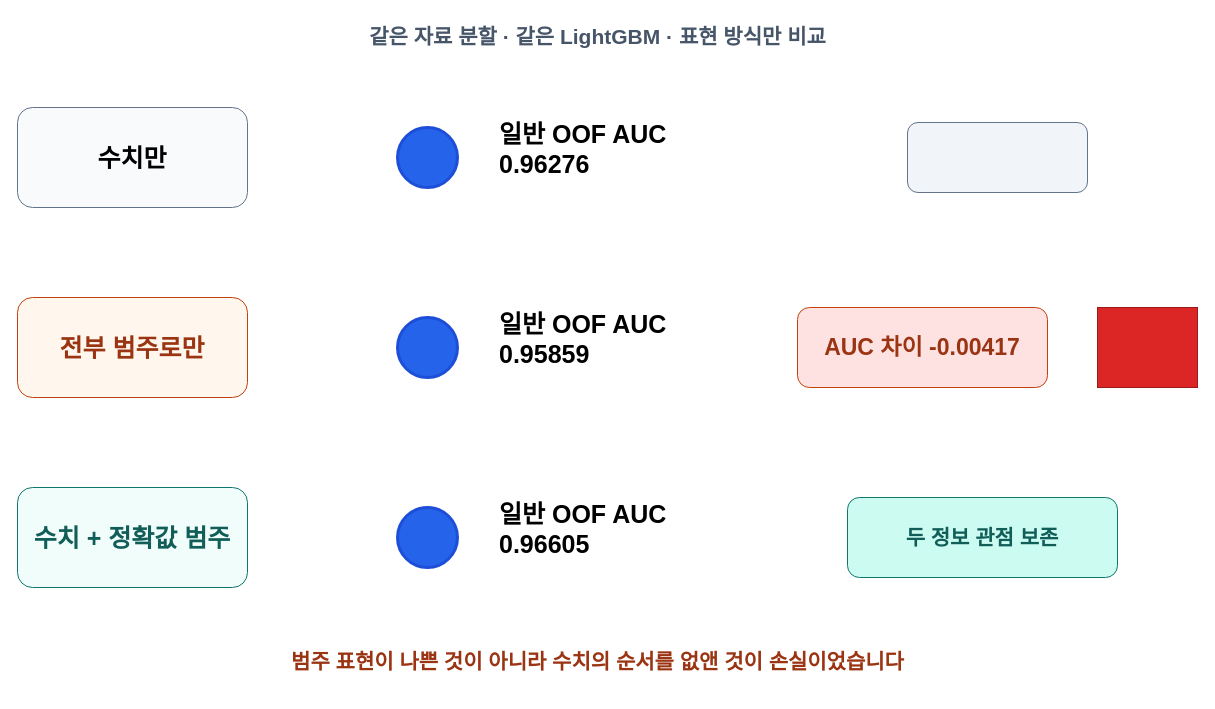
Some shapes in this 1215 by 709 pixel diagram are drawn without their labels. Here are the shapes that lost their labels. From the top down, the box of each, then its label:
(906, 122, 1088, 192): 비교 기준
(1096, 306, 1198, 388): 중단
